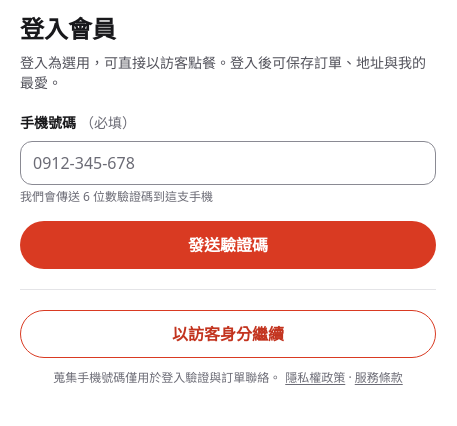
Test case: LoginPage › 手機格式錯誤：顯示欄位錯誤，不呼叫 API
Type "123" into the field labelled "手機號碼（必填）" at (228, 163), box [20,141,436,185]
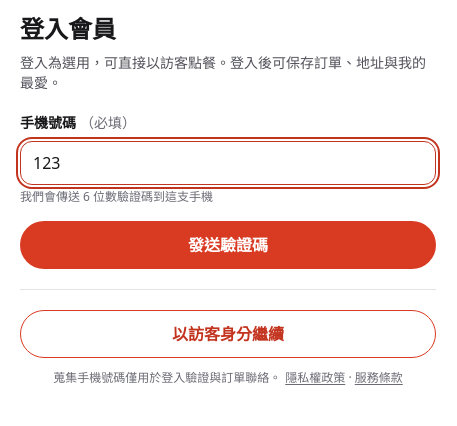
Click the button "發送驗證碼" at (228, 245), box [20,221,436,269]
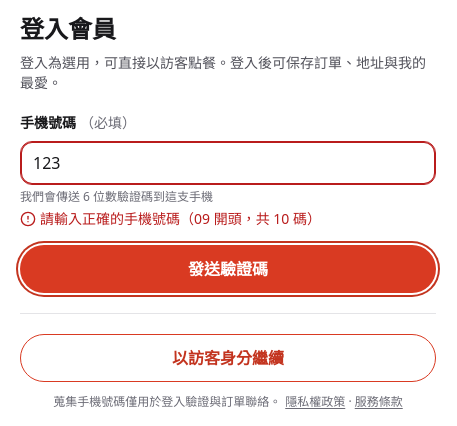
Check: the text "請輸入正確的手機號碼（09 開頭，共 10 碼）" is shown, box [40,209,321,229]
